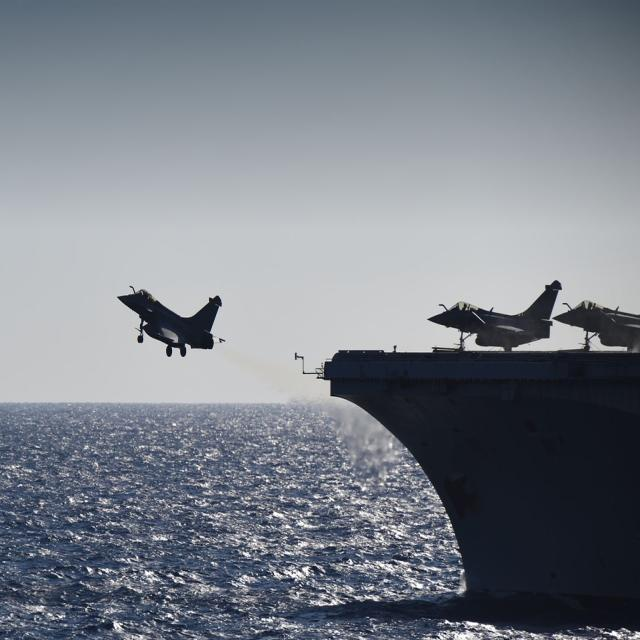MIL_Plane: (427, 279, 562, 352), (117, 285, 225, 357), (551, 299, 640, 351)
